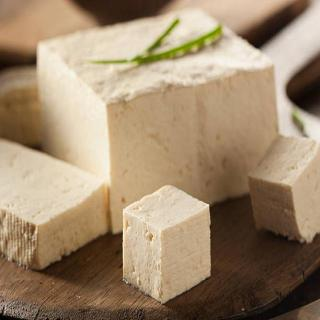Tahu: (34, 1, 282, 236), (1, 135, 113, 277), (120, 182, 216, 310), (247, 130, 320, 254)
